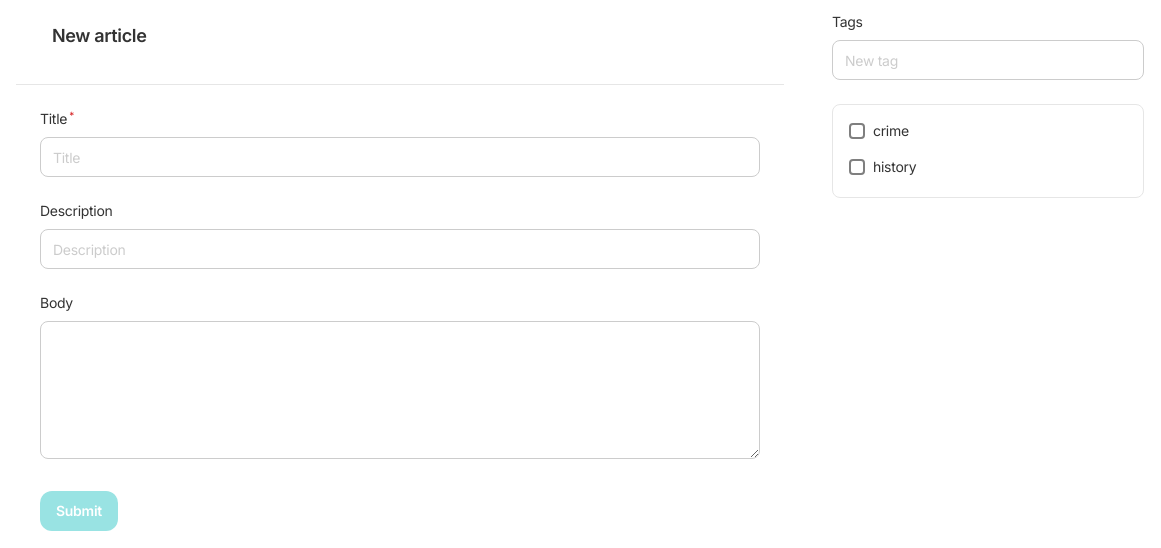
Test case: ArticleForm › keeps Submit disabled until the required Title is filled
Expected: the button "Submit" is disabled, x1=40 y1=491 x2=118 y2=531
Type "My article" into the field labelled "Title*".
click(400, 157); type("My article")  # box x1=40 y1=137 x2=760 y2=177
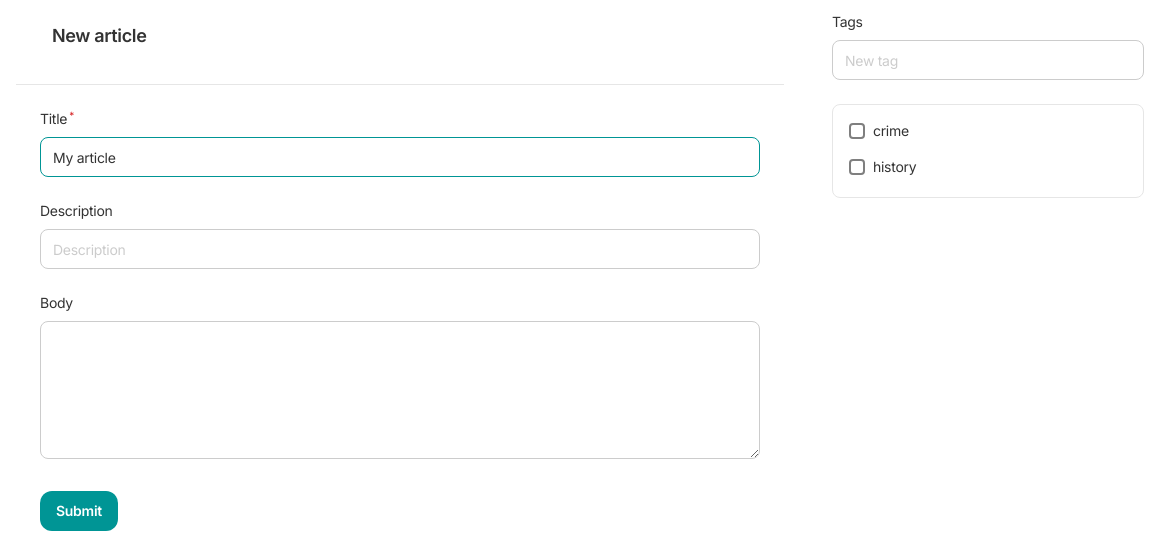
Now the button "Submit" is enabled, box x1=40 y1=491 x2=118 y2=531
